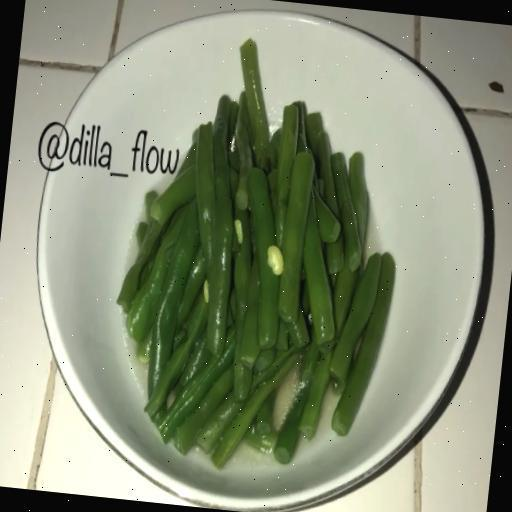buncis_rebus: (148, 20, 424, 491)
